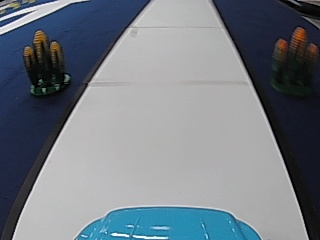corn: (21, 27, 70, 97), (271, 23, 315, 97)
